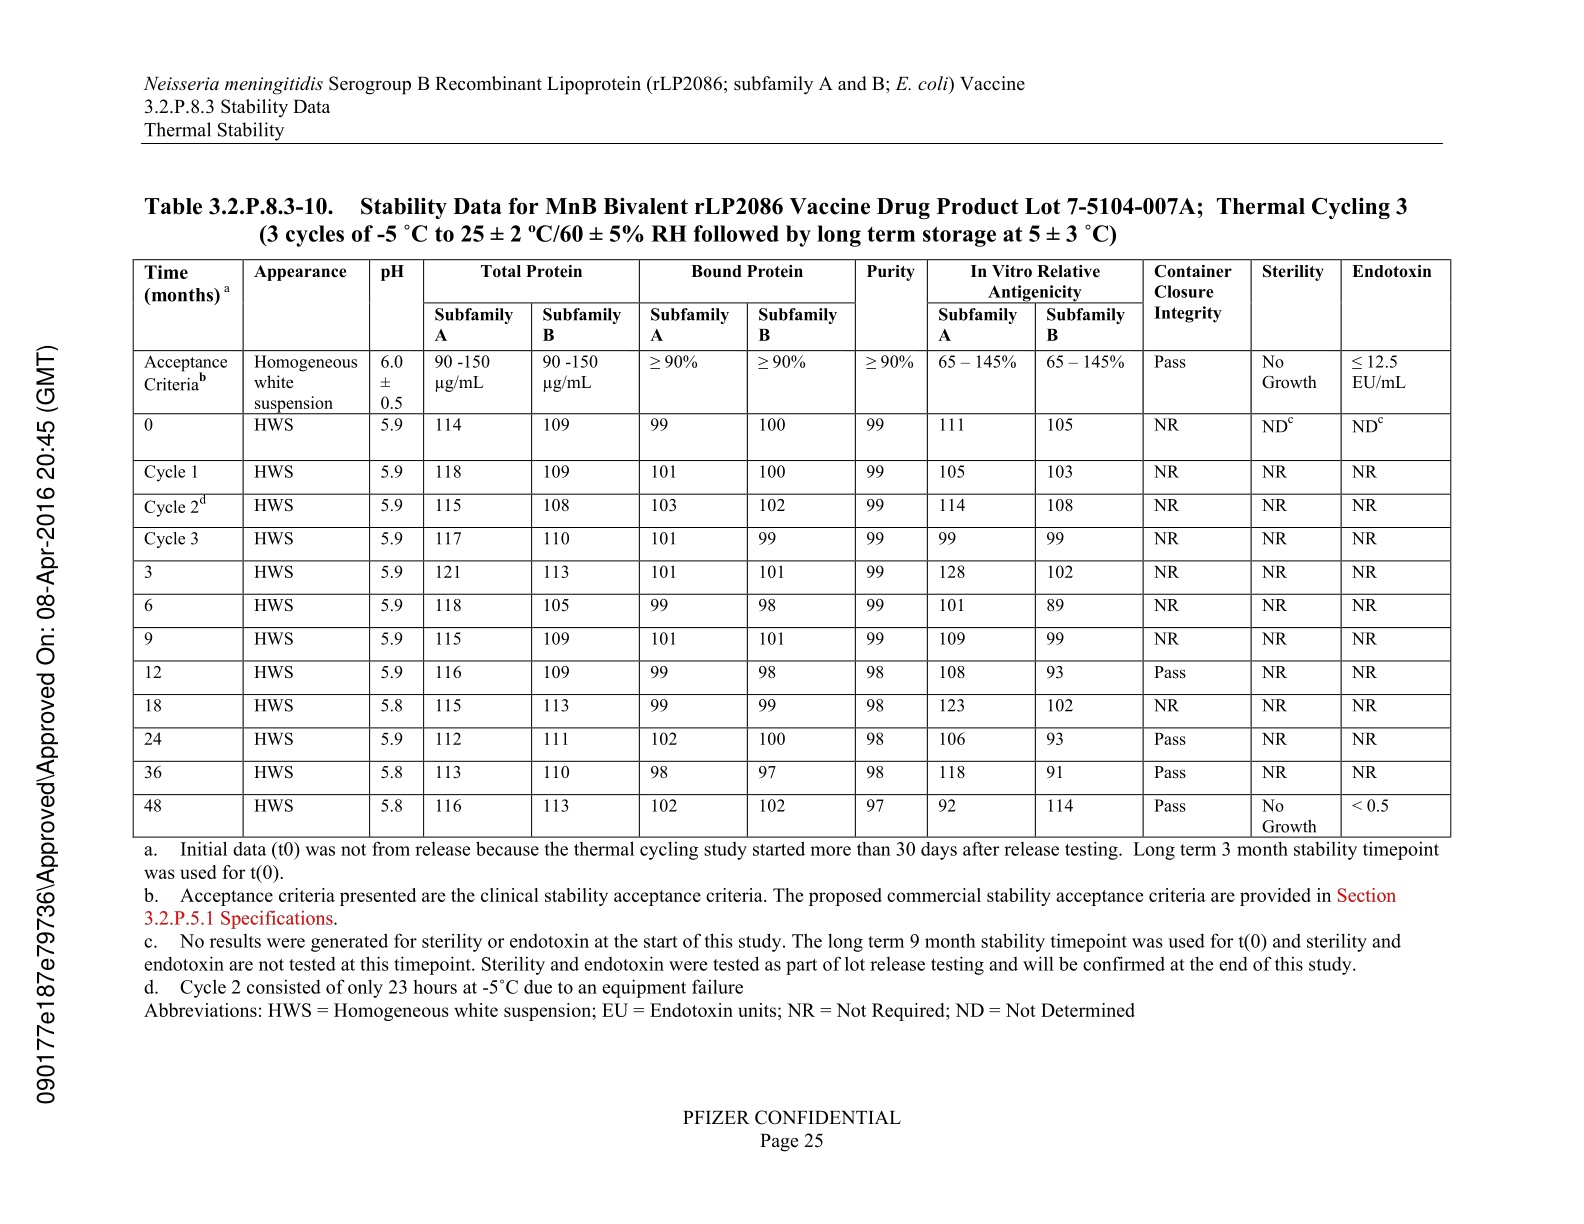merged_cells: (132, 258, 1452, 840)
